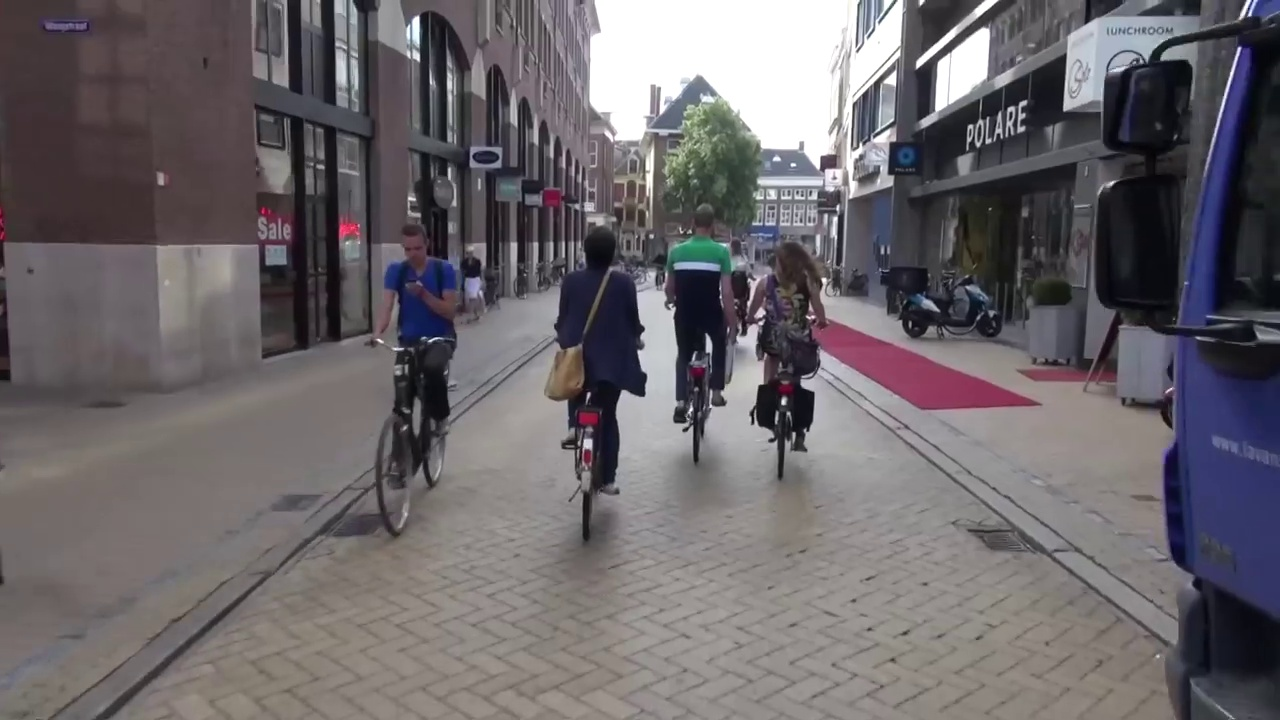cyclist_back: (550, 224, 650, 558), (661, 193, 739, 479), (746, 231, 821, 511)
cyclist_front: (363, 220, 467, 538)
